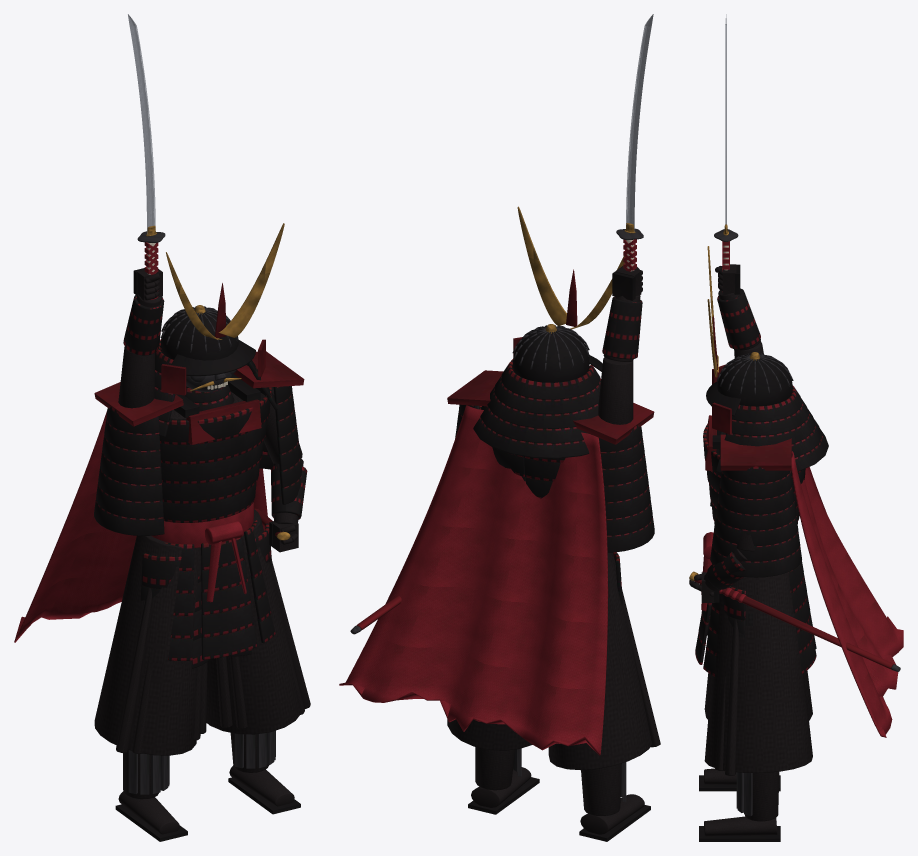
Rendered from samurai.glb.
The picture shows the model from 3 angles, left to right: view 1: azimuth 30°, elevation 25°; view 2: azimuth 150°, elevation 25°; view 3: azimuth 270°, elevation 25°; orthographic projection. The views are drawn at different scales.
Parts seen in each view (by area): view 1: Body, ArmMesh; view 2: Body, ArmMesh; view 3: Body, ArmMesh.
Part boxes in pixels (x1=…): Body: x1=14, y1=223, x2=310, y2=841; ArmMesh: x1=118, y1=14, x2=165, y2=408; Body: x1=339, y1=206, x2=660, y2=841; ArmMesh: x1=598, y1=14, x2=653, y2=424; Body: x1=689, y1=246, x2=903, y2=841; ArmMesh: x1=714, y1=14, x2=763, y2=357.
Bounding box in the file's own units: 1.02 × 3.06 × 0.7868.
11 materials, 10 textured.
